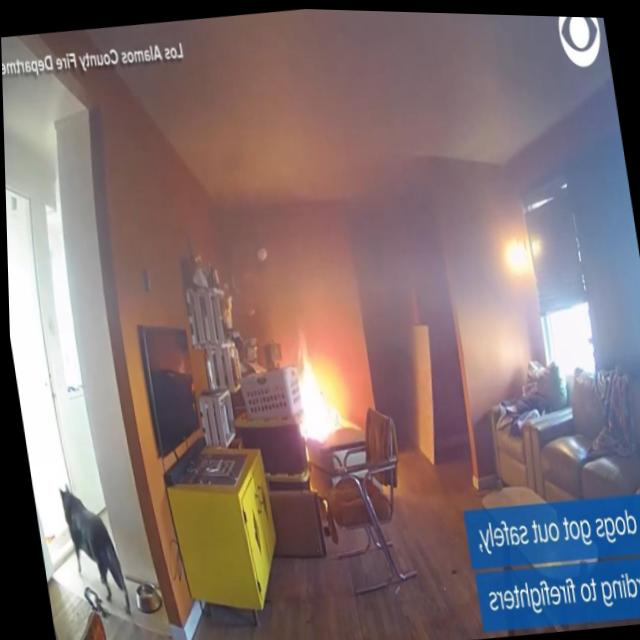fire: (283, 327, 350, 444)
